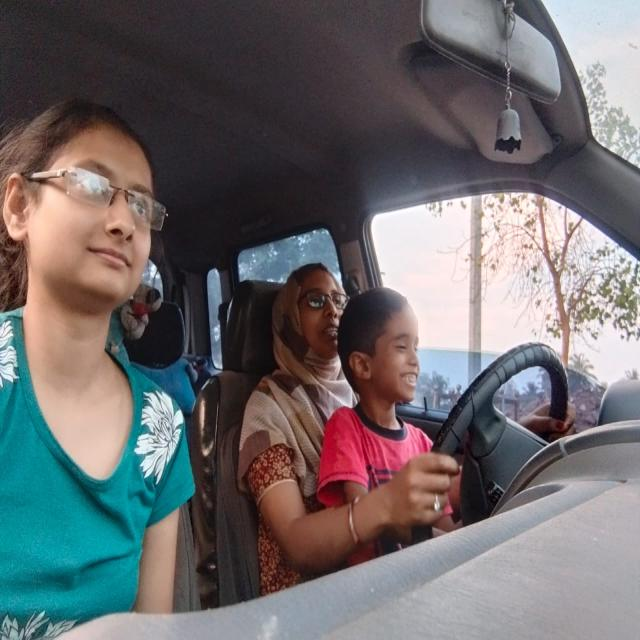child: (342, 280, 423, 435)
person: (5, 93, 169, 352), (272, 255, 348, 387)
